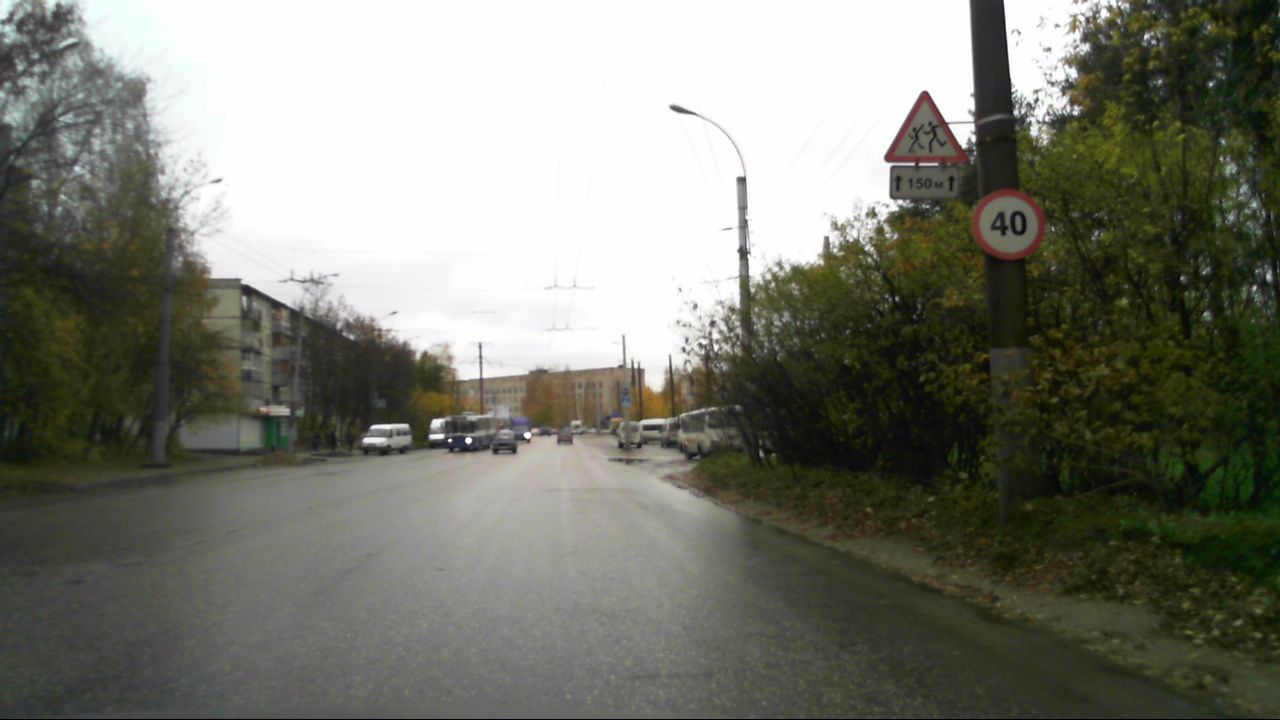speed_warning_40: (971, 191, 1046, 263)
